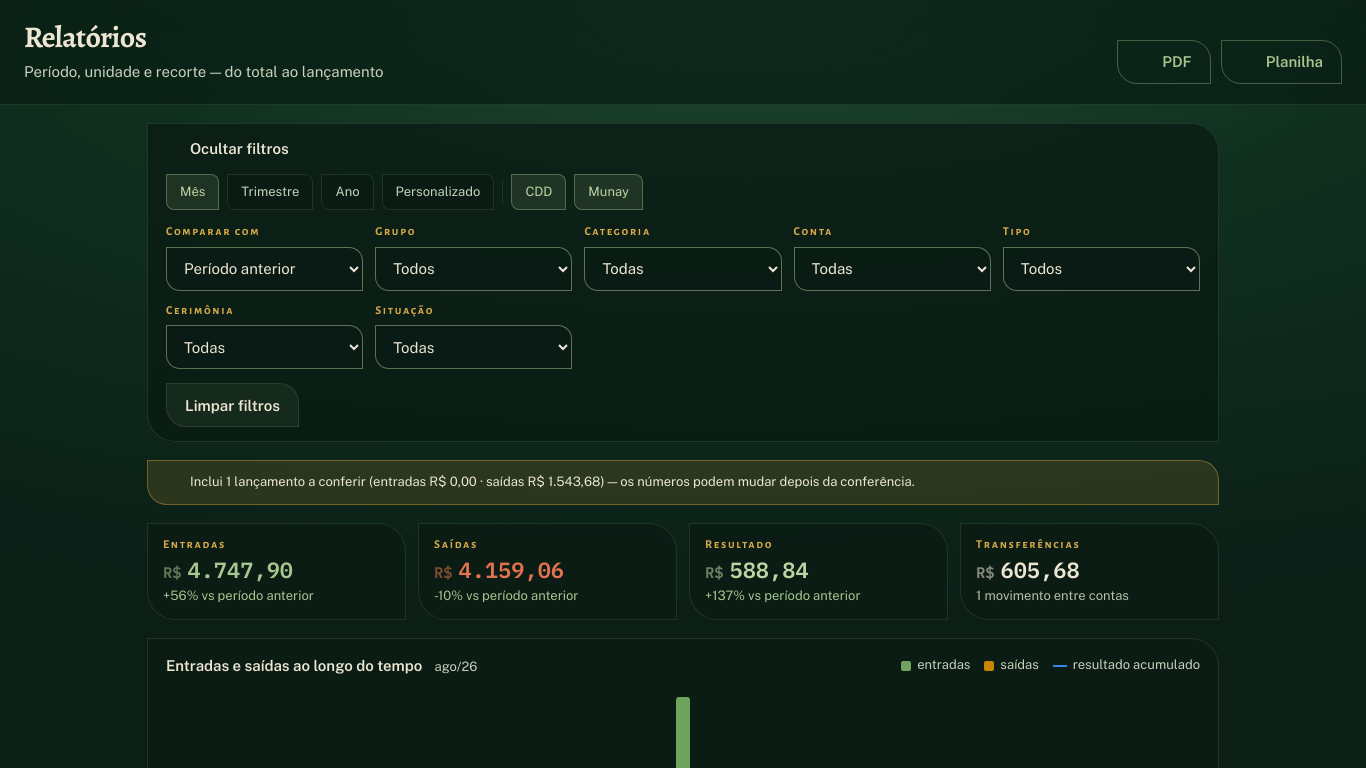
it: RelatoriosPage: filtros no escritório › Personalizado — mostra os campos De e Até com março e agosto de 2026, e só nesse período
What coordinates should you click on to do the following:
click the button "Personalizado"
I would click on:
 (438, 192)
Its box is [382,174,494,210].
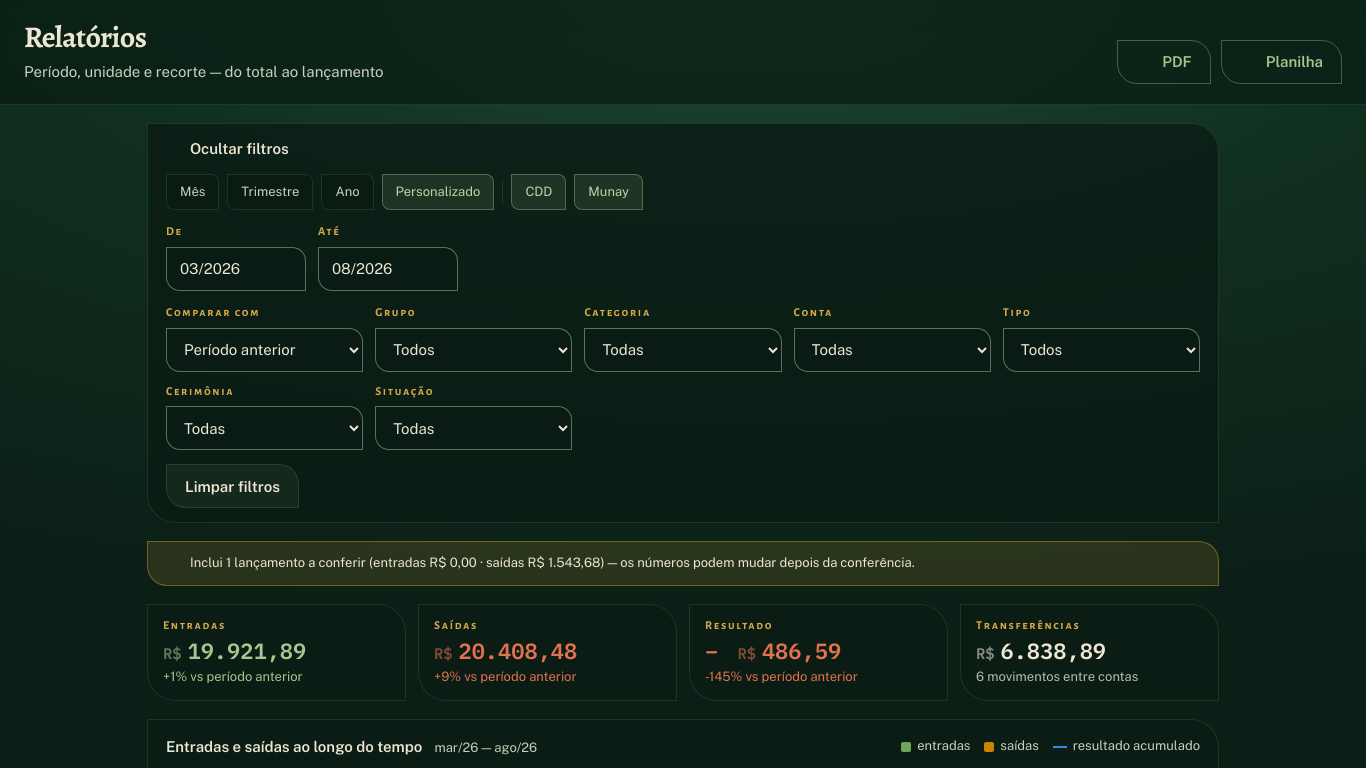
expect the text "mar/26 — ago/26" is shown: met, box [434,739,537,758]
